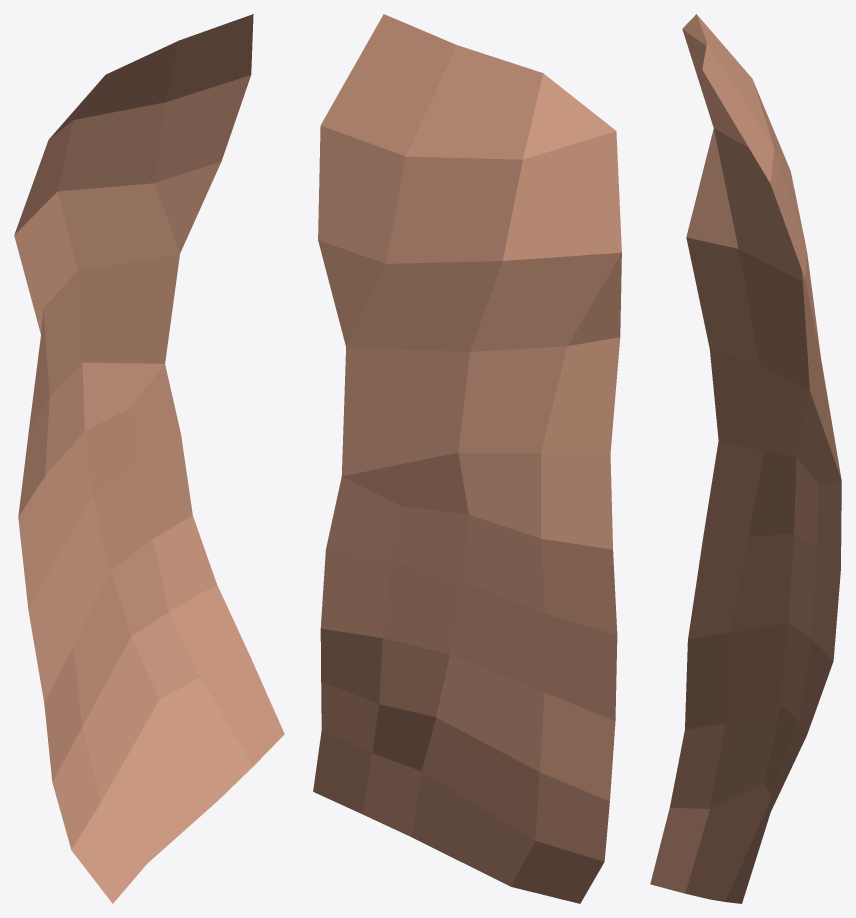
File: jerocarader (1).fbx
3 views of the same model, side by side, from view 1: azimuth 30°, elevation 25°; view 2: azimuth 150°, elevation 25°; view 3: azimuth 270°, elevation 25° (orthographic). The views are drawn at different scales.
Visible parts, largest first — view 1: Plane.007; view 2: Plane.007; view 3: Plane.007.
Boxes of the visible parts, left/top/right/bottom form: Plane.007: left=14, top=14, right=284, bottom=903; Plane.007: left=313, top=14, right=621, bottom=903; Plane.007: left=650, top=14, right=841, bottom=903.
Size of the model in its own units: 7.6 by 21.3 by 4.1.
